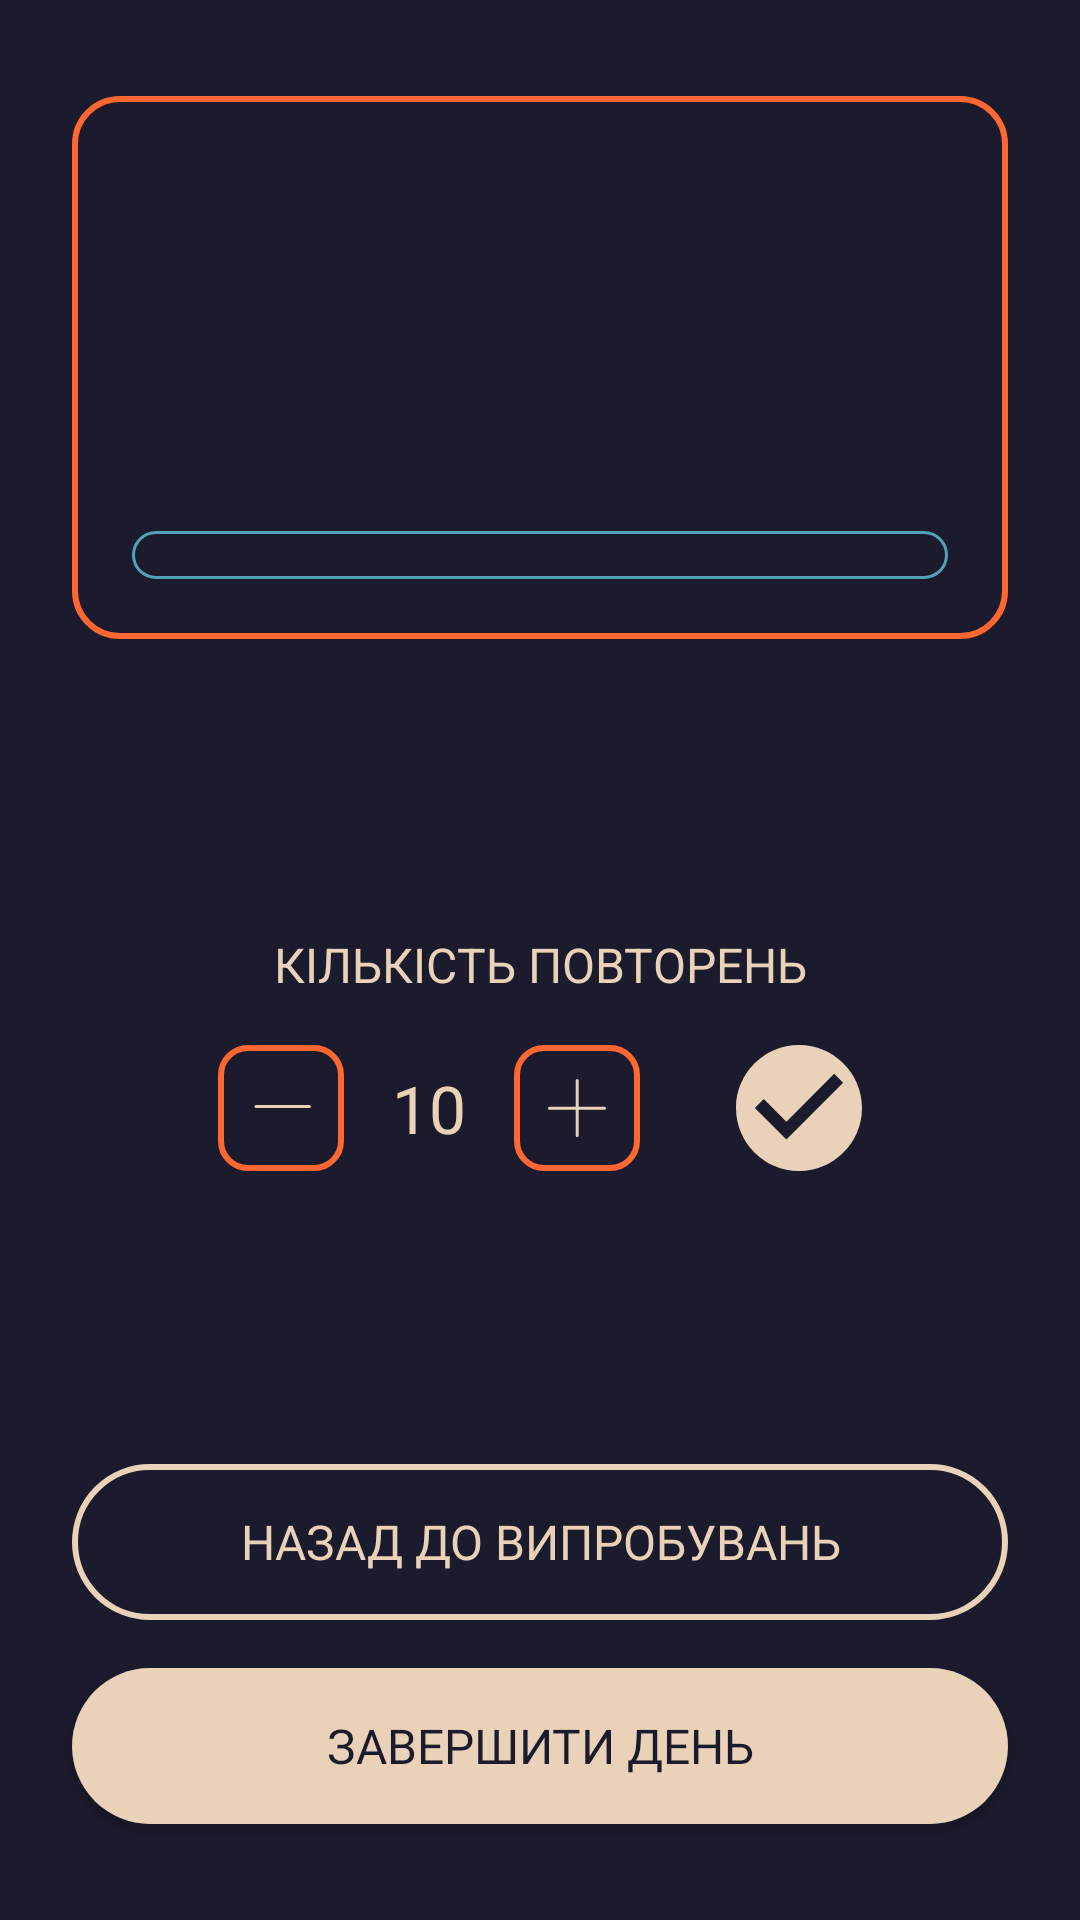

Icon bounding boxes for this 1080x1920 phone screenshot, format [x1=x1, y1=y1, x2=x2, y2=y2]:
minus: [x1=218, y1=1045, x2=344, y2=1171]
plus: [x1=514, y1=1045, x2=640, y2=1171]
